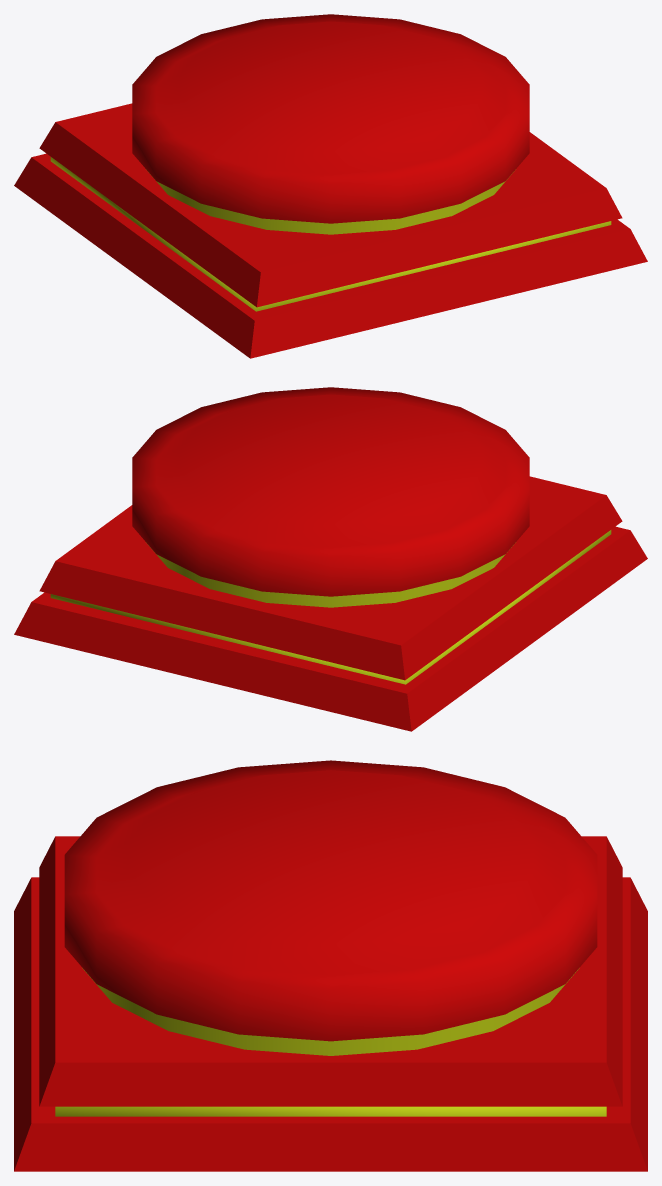
Rendered from Button.FBX.
3 renders of one model, top to bottom at view 1: azimuth 30°, elevation 25°; view 2: azimuth 150°, elevation 25°; view 3: azimuth 270°, elevation 25°, orthographic. The views are drawn at different scales.
Visible parts, largest first — view 1: Cylinder001; view 2: Cylinder001; view 3: Cylinder001.
Boxes of the visible parts, x1=… form: Cylinder001: x1=14, y1=14, x2=647, y2=358; Cylinder001: x1=14, y1=387, x2=647, y2=731; Cylinder001: x1=14, y1=760, x2=647, y2=1171.
Bounding box in the file's own units: 52.91 × 17.46 × 54.47.
